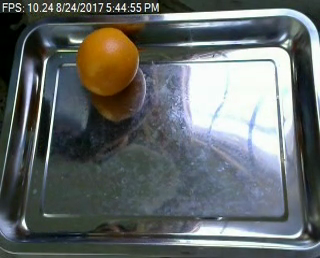Orange: (76, 26, 139, 94)
